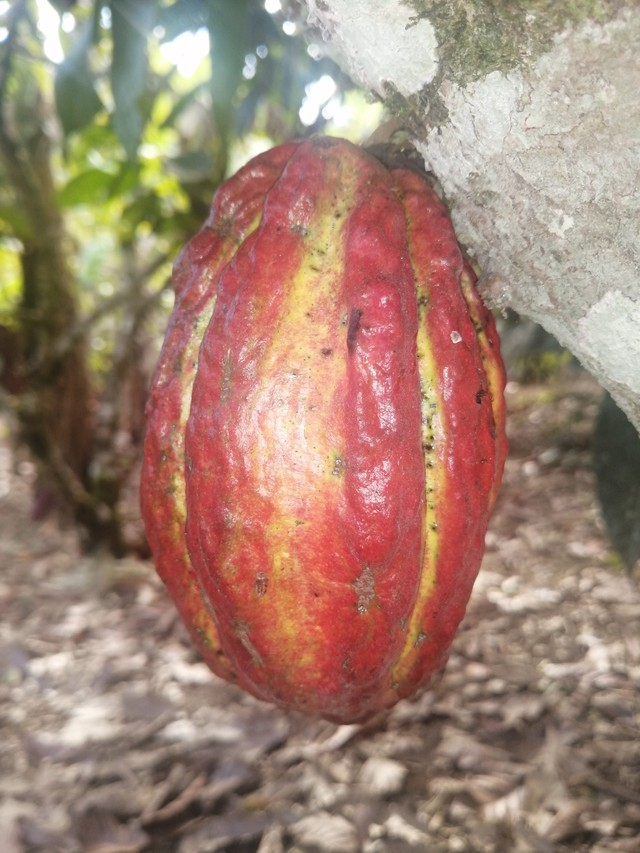carmenta foraseminis: (138, 128, 515, 728)
